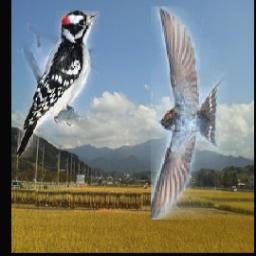Swallow: (151, 6, 229, 219)
Woodpecker: (16, 11, 99, 159)
